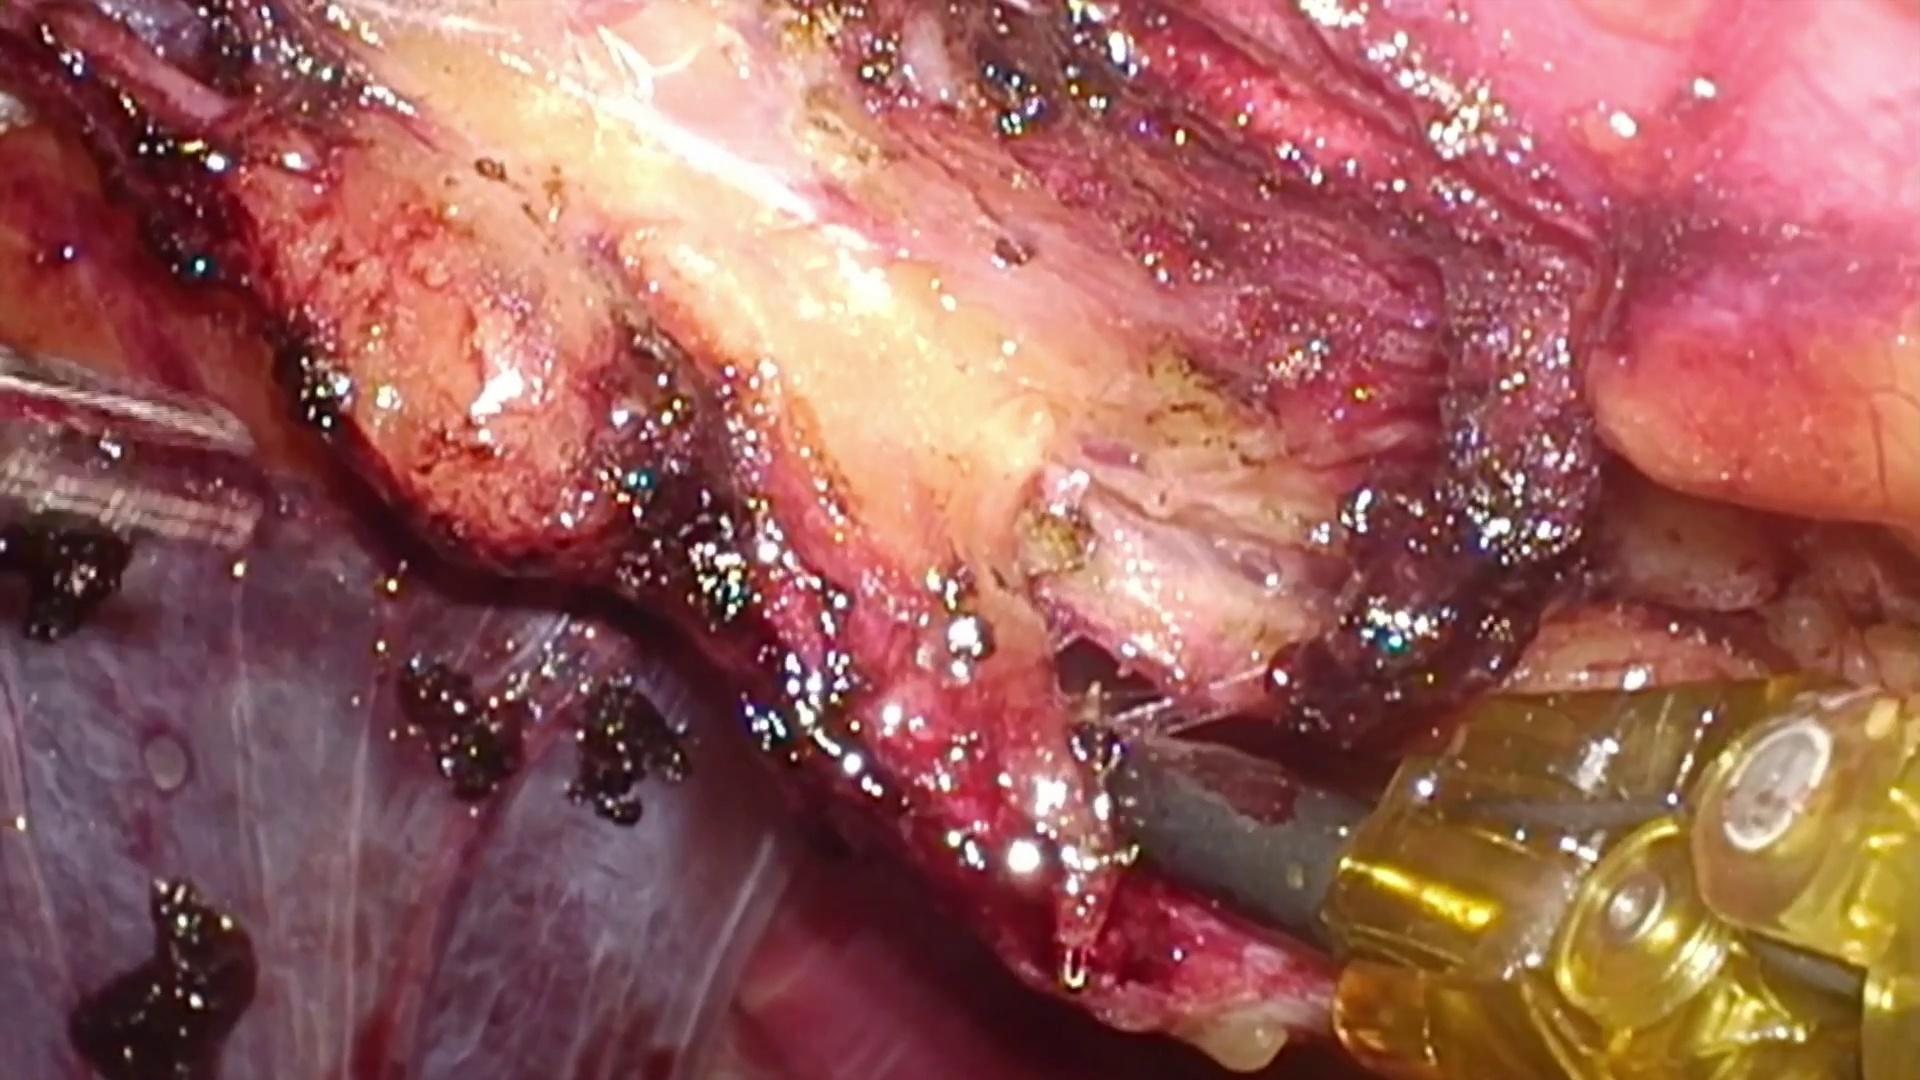Cautery_Spatula: (1072, 704, 1370, 934)
Debakey: (0, 320, 268, 583)
